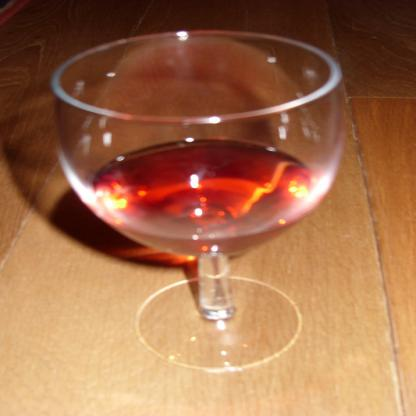drinking: (52, 30, 348, 373)
